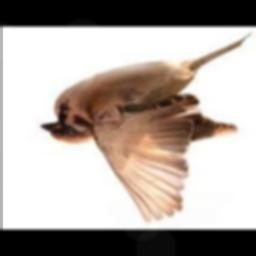Sparrow: (41, 33, 253, 224)
